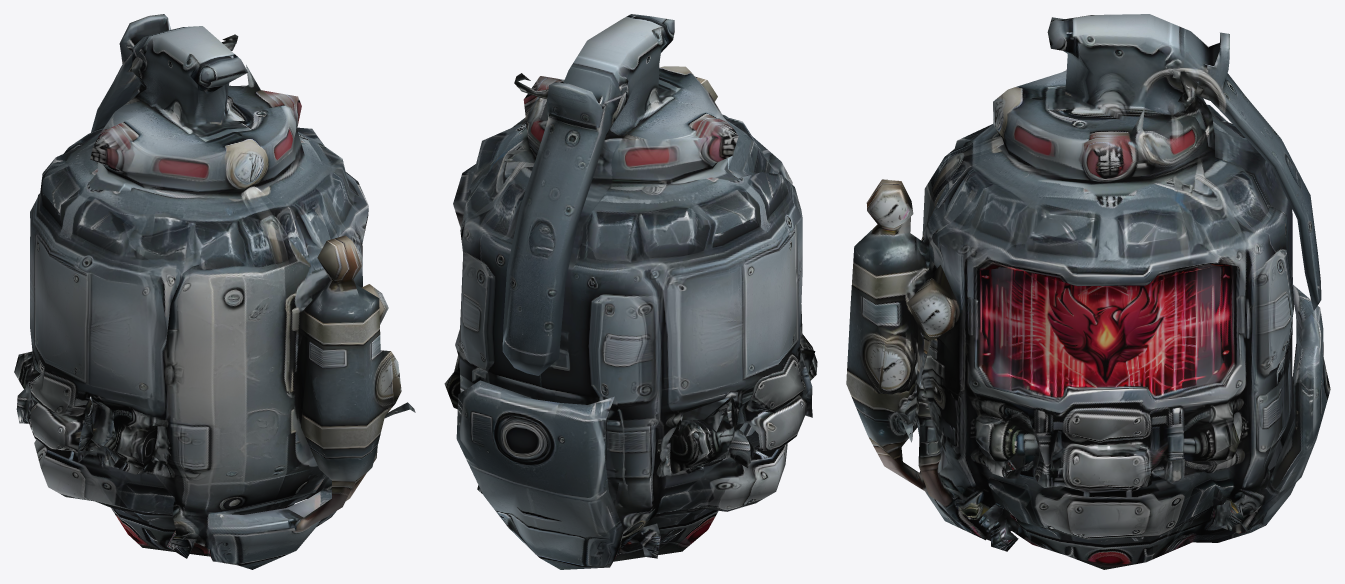
Rendered from tripo_convert_3c3cf239-c955-4cf3-bf27-779fd33cf1de.fbx.
3 views of the same model, side by side, from view 1: azimuth 30°, elevation 25°; view 2: azimuth 150°, elevation 25°; view 3: azimuth 270°, elevation 25° (orthographic). The views are drawn at different scales.
Visible parts, largest first — view 1: tripo_node_3c3cf239; view 2: tripo_node_3c3cf239; view 3: tripo_node_3c3cf239.
Part boxes in pixels (x1,y1,x2,y2): tripo_node_3c3cf239: [14, 14, 415, 569]; tripo_node_3c3cf239: [444, 14, 817, 569]; tripo_node_3c3cf239: [846, 14, 1330, 569].
Bounding box in the file's own units: 0.6568 × 0.9973 × 0.8243.
